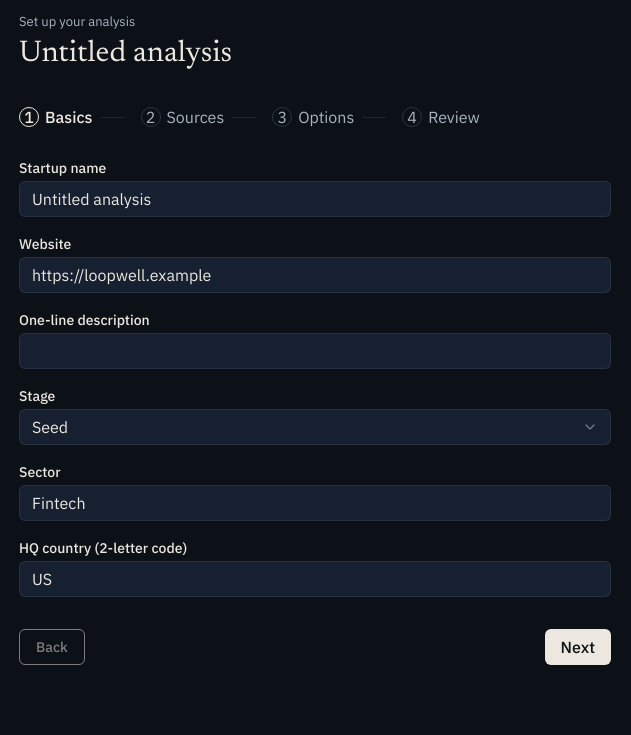
SetupWizard › blocks Next on Basics when the name is empty
This screenshot has width=631, height=735.
Clear the field labelled "Startup name" at (315, 199), box [19, 181, 611, 217]
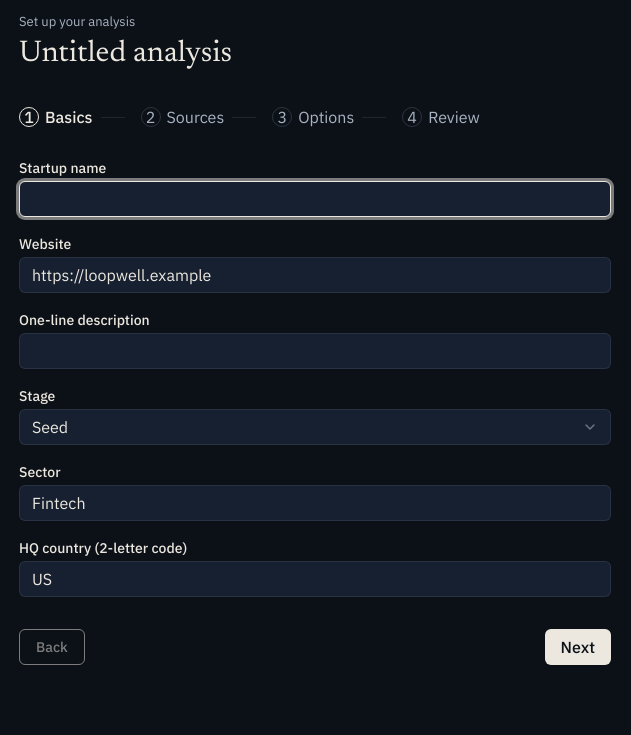
Click the button "Next" at (578, 647), box [545, 629, 611, 665]
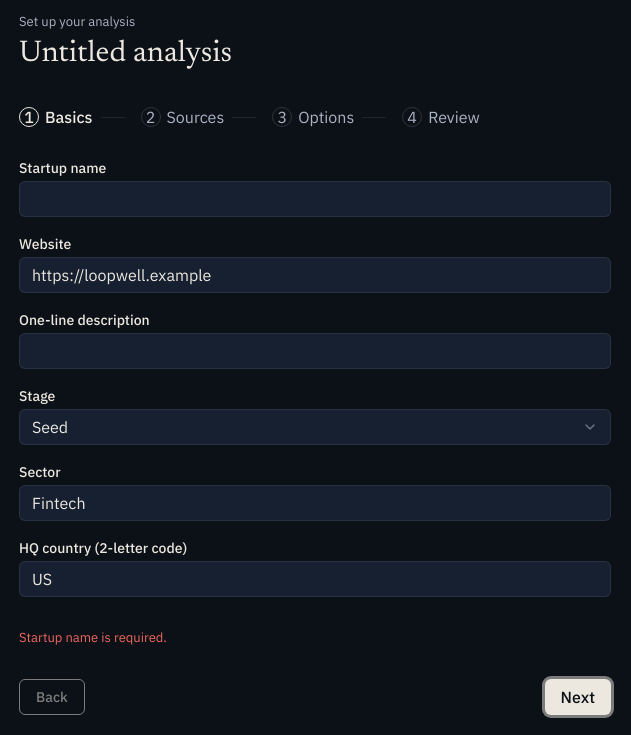
Result: the message reads "Startup name is required." at [19, 629, 167, 646]
